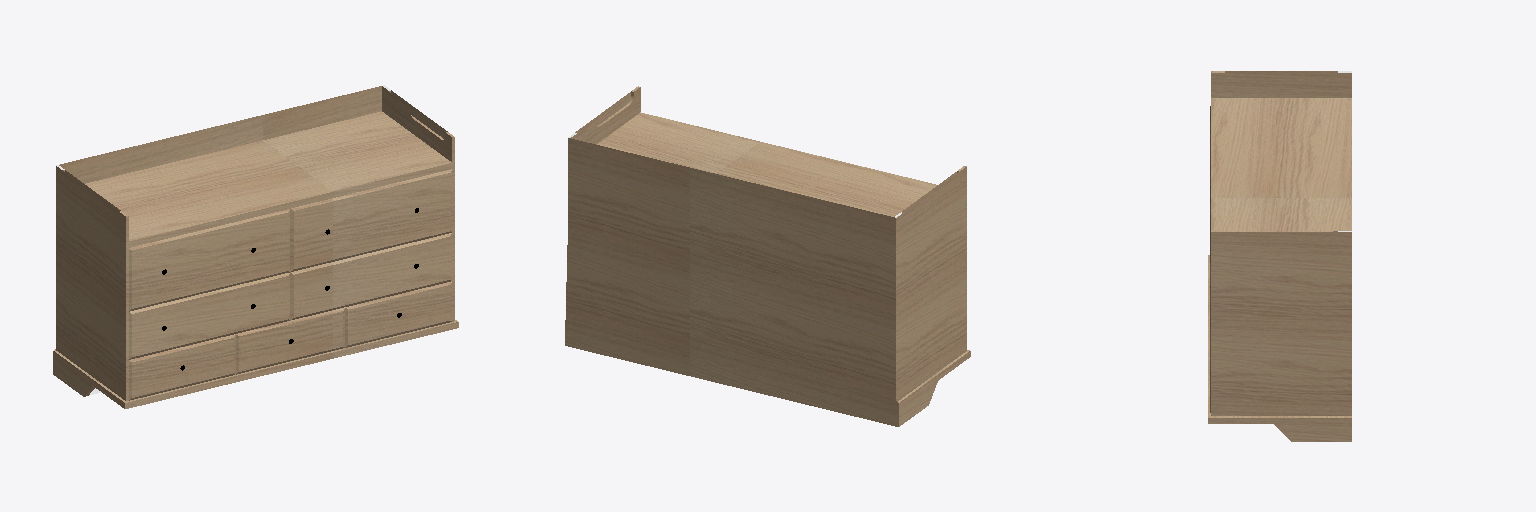
3 views of the same model, side by side, from view 1: azimuth 30°, elevation 25°; view 2: azimuth 150°, elevation 25°; view 3: azimuth 270°, elevation 25° (orthographic).
Parts seen in each view (by area): view 1: Mesh1 _____________1 Model; view 2: Mesh1 _____________1 Model; view 3: Mesh1 _____________1 Model.
Part boxes in pixels (x1,y1,x2,y2): Mesh1 _____________1 Model: (53,85,458,408); Mesh1 _____________1 Model: (565,86,970,426); Mesh1 _____________1 Model: (1208,71,1351,441).
Bounding box in the file's own units: 53.94 × 32.28 × 20.08.
Materials: 3 (1 with a texture image).